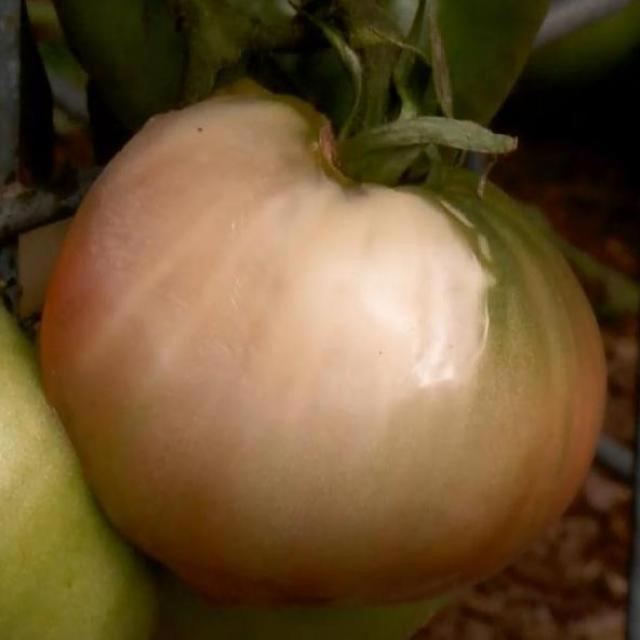Sunscald Fruit: (59, 65, 336, 279)
